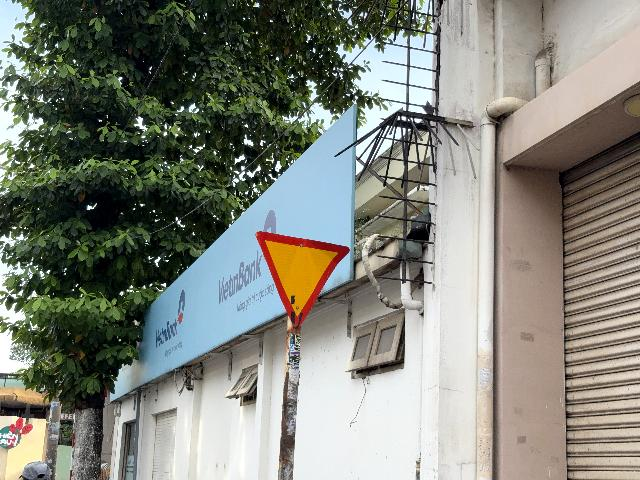giao-nhau-voi-duong-uu-tien: (254, 230, 352, 329)
